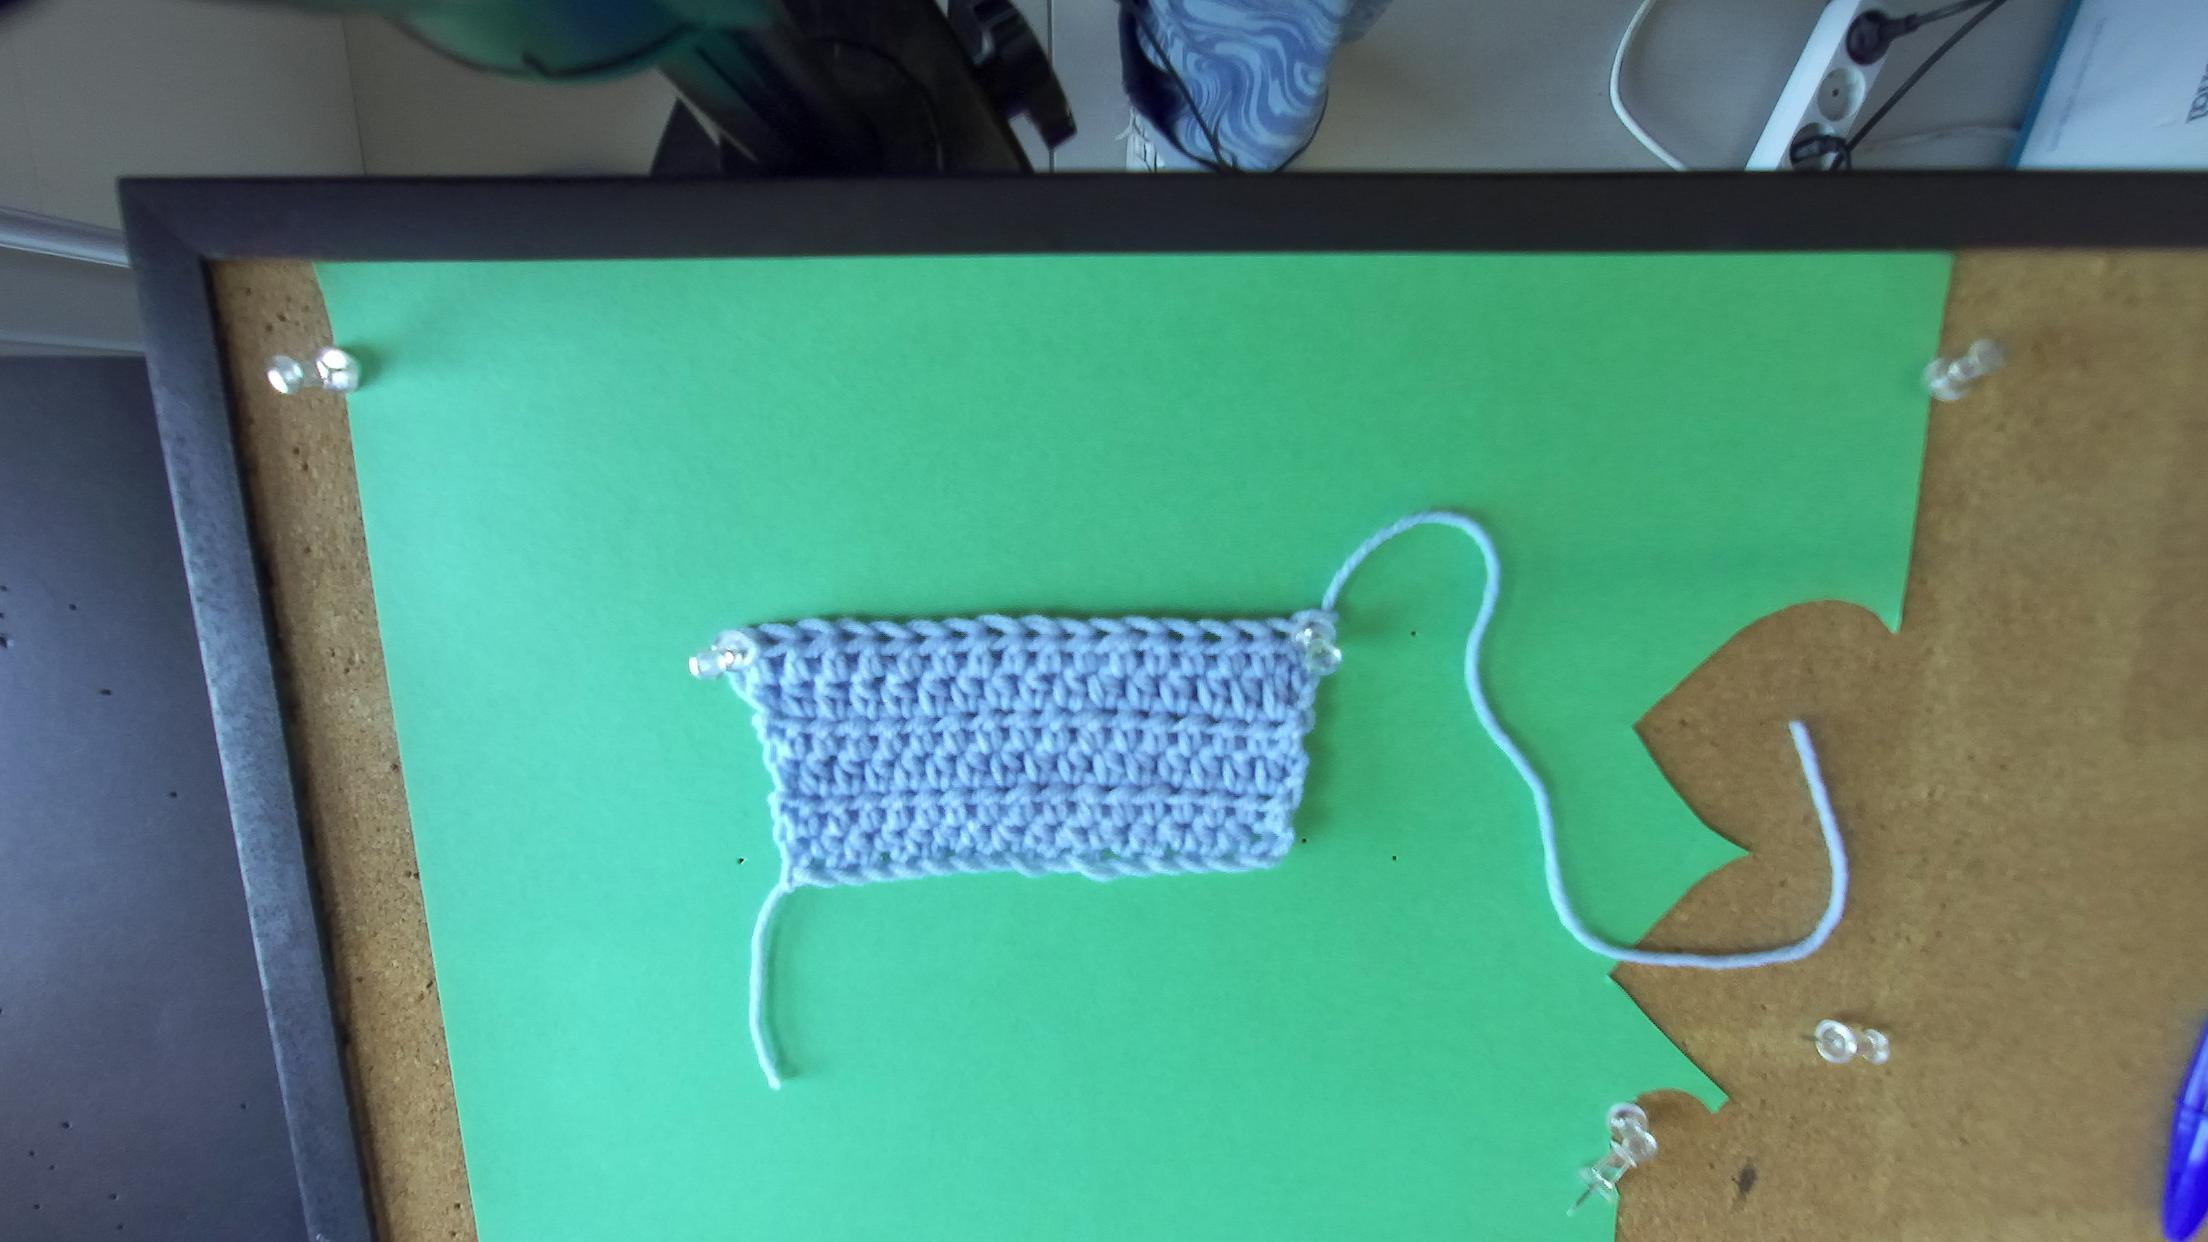hole: (1201, 629, 1221, 646), (837, 628, 857, 643), (986, 625, 1007, 637), (875, 631, 893, 645), (913, 629, 931, 643), (1090, 629, 1113, 640), (1168, 629, 1184, 643), (1237, 629, 1254, 643), (796, 634, 817, 643), (1130, 628, 1148, 638), (1025, 628, 1040, 640), (764, 634, 781, 645), (1274, 629, 1287, 641), (951, 629, 968, 638), (1059, 631, 1078, 638)
swatch: (688, 610, 1339, 898)
